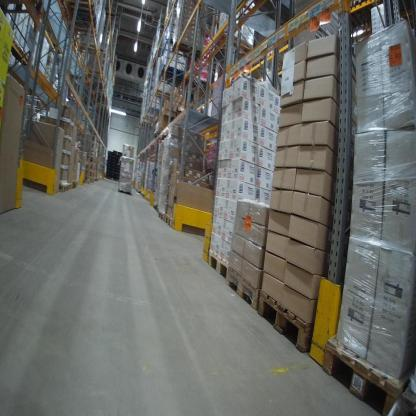pallet: (318, 331, 412, 411), (257, 287, 312, 356), (226, 263, 258, 308), (164, 211, 210, 238), (350, 0, 381, 32), (207, 245, 229, 284), (69, 9, 100, 33), (171, 39, 202, 63), (400, 377, 416, 413), (65, 3, 99, 18), (74, 41, 102, 55), (86, 66, 105, 82), (115, 182, 133, 195), (59, 180, 68, 194), (158, 208, 166, 221), (67, 181, 73, 190)
